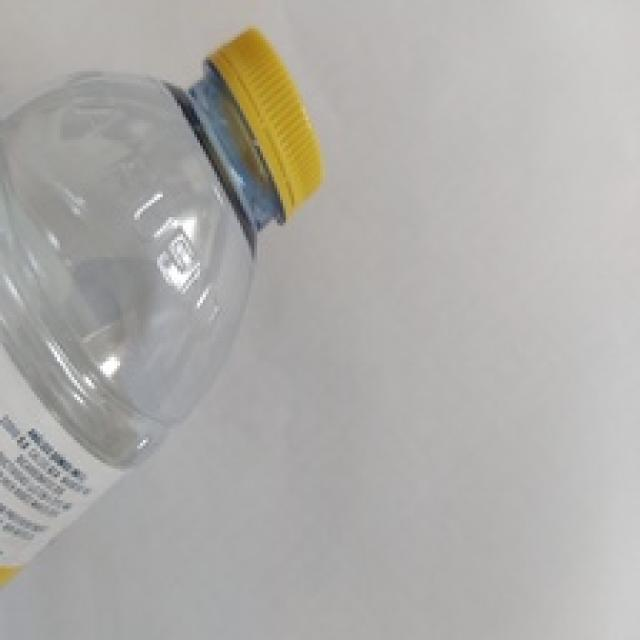Plastic: (0, 24, 330, 606)
